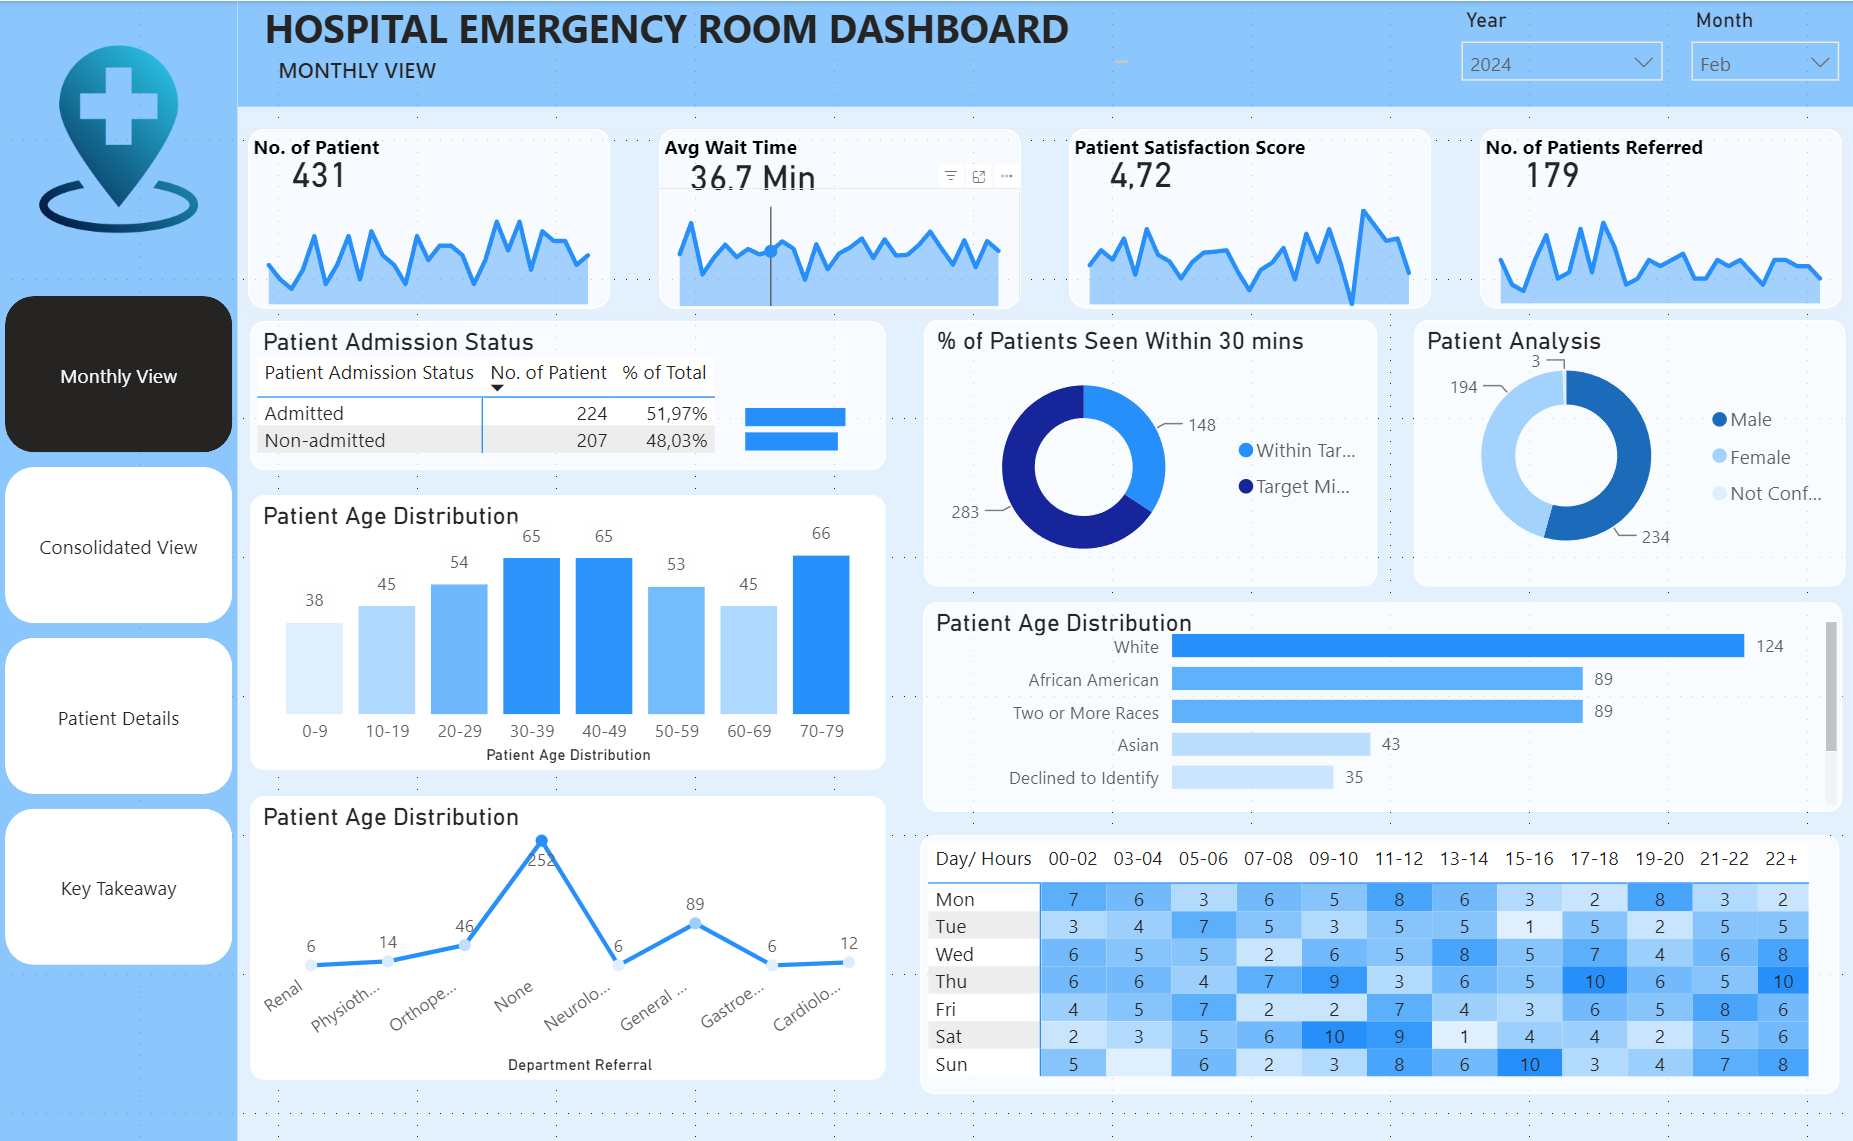

The dashboard page shown, as its layout file describes it:
{"tool":"powerbi","page":{"name":"Monthly View","canvas":[1280,790],"ordinal":0},"visuals":[{"type":"shape","box":[0,0,164.5,789.7],"z":0},{"type":"shape","box":[171.6,87.7,250.5,124.8],"z":0,"group":"g4"},{"type":"shape","box":[455.6,87.7,250.2,125.1],"z":0,"group":"g3"},{"type":"shape","box":[738.8,87.7,250.5,124.8],"z":0,"group":"g2"},{"type":"group","id":"g1","title":"No. of Patients Referred","box":[1021.8,87.7,251.1,127.1],"z":0,"group":"g12"},{"type":"shape","box":[1022.4,87.7,250.5,124.8],"z":0,"group":"g1"},{"type":"textbox","title":"% of Patients Seen Within 30 mins","box":[638.3,220.4,313.5,183.8],"z":0,"group":"g8"},{"type":"textbox","title":"Patient Analysis","box":[976.7,220.4,297.7,184.2],"z":0,"group":"g9"},{"type":"textbox","title":"Patient Admission Status","box":[172.6,220.7,439.2,102.8],"z":0,"group":"g5"},{"type":"textbox","title":"Patient Age Distribution","box":[172.6,341.3,439.1,190.3],"z":0,"group":"g6"},{"type":"textbox","title":"Patient Age Distribution","box":[637.8,414.9,635,145.3],"z":0,"group":"g10"},{"type":"textbox","title":"Patient Age Distribution","box":[172.6,548.7,439.1,196.2],"z":0,"group":"g7"},{"type":"textbox","title":"Patient Age Distribution","box":[635.3,576,635.3,178.6],"z":0,"group":"g11"},{"type":"shape","box":[164.2,0,1115.6,73.5],"z":1000},{"type":"group","id":"g2","title":"Patient Satisfaction Score","box":[737.8,87.7,251.5,127.7],"z":1000,"group":"g12"},{"type":"card","fields":{"Values":["Hospital ER_Data.No Of Patient"]},"box":[174.1,95,93.5,47.9],"z":1000,"group":"g4"},{"type":"card","fields":{"Values":["Hospital ER_Data.Avg Patient Satisfaction Score"]},"box":[741.3,95,93.5,47.9],"z":1000,"group":"g2"},{"type":"card","fields":{"Values":["Hospital ER_Data.No. of Patients Referred"]},"box":[1024.9,95,93.5,47.9],"z":1000,"group":"g1"},{"type":"card","fields":{"Values":["Hospital ER_Data.Average Wait Time"]},"box":[458.4,99.4,124.3,43.9],"z":1000,"group":"g3"},{"type":"donutChart","fields":{"Category":["Hospital ER_Data.Patient Gender"],"Y":["Hospital ER_Data.No Of Patient"]},"box":[976.8,224.1,297.3,180.3],"z":1000,"group":"g9"},{"type":"donutChart","title":"No. of Patient by Patient Age Distribution","fields":{"Y":["Hospital ER_Data.Timeliness","Hospital ER_Data.Without Timeliness"]},"box":[637.8,238.8,314.1,165.8],"z":1000,"group":"g8"},{"type":"barChart","fields":{"Category":["Hospital ER_Data.Patient Admission Status"],"Y":["Hospital ER_Data.No Of Patient"]},"box":[509.8,259.1,102.7,65.1],"z":1000,"group":"g5"},{"type":"lineClusteredColumnComboChart","title":"No. of Patient by Patient Age Distribution","fields":{"Category":["Hospital ER_Data.Patient Age Distribution"],"Y":["Hospital ER_Data.No Of Patient"]},"box":[172.6,341.3,439.9,190.3],"z":1000,"group":"g6"},{"type":"clusteredBarChart","title":"No. of Patient by Patient Age Distribution","fields":{"Category":["Hospital ER_Data.Patient Race"],"Y":["Hospital ER_Data.No Of Patient"]},"box":[637.8,414.9,636.2,145.3],"z":1000,"group":"g10"},{"type":"lineChart","title":"No. of Patient by Patient Age Distribution","fields":{"Category":["Hospital ER_Data.Department Referral"],"Y":["Hospital ER_Data.No Of Patient"]},"box":[172.6,548.7,439.9,196.2],"z":1000,"group":"g7"},{"type":"pivotTable","fields":{"Rows":["Date Table.Day"],"Values":["Hospital ER_Data.No Of Patient"],"Columns":["Hospital ER_Data.Patient volumne by day and hour"]},"box":[635.9,576.8,635.3,177],"z":1000,"group":"g11"},{"type":"textbox","title":"HOSPITAL EMERGENCY ROOM DASHBOARD","box":[177.4,0,605.8,48.3],"z":2000},{"type":"group","id":"g3","title":"Avg Wait Time","box":[454.8,87.7,251,127.7],"z":2000,"group":"g12"},{"type":"areaChart","fields":{"Category":["Date Table.Date.Variation.Date Hierarchy.Month"],"Y":["Hospital ER_Data.No Of Patient"]},"box":[170.8,128.8,250.5,86.4],"z":2000,"group":"g4"},{"type":"areaChart","fields":{"Category":["Date Table.Date.Variation.Date Hierarchy.Month"],"Y":["Avg(Hospital ER_Data.Patient Waittime)"]},"box":[454.8,128.9,250.2,86.5],"z":2000,"group":"g3"},{"type":"areaChart","fields":{"Category":["Date Table.Date.Variation.Date Hierarchy.Month"],"Y":["Hospital ER_Data.Avg Patient Satisfaction Score"]},"box":[737.8,130.4,250.5,85],"z":2000,"group":"g2"},{"type":"areaChart","fields":{"Category":["Date Table.Date.Variation.Date Hierarchy.Month"],"Y":["Hospital ER_Data.No. of Patients Referred"]},"box":[1021.8,130.4,250.5,84.3],"z":2000,"group":"g1"},{"type":"pivotTable","fields":{"Rows":["Hospital ER_Data.Patient Admission Status"],"Values":["Hospital ER_Data.No Of Patient","Divide(Hospital ER_Data.No Of Patient, ScopedEval(Hospital ER_Data.No Of Patient, []))"]},"box":[172.7,240.6,335.9,83.2],"z":2000,"group":"g5"},{"type":"textbox","title":"MONTHLY VIEW","box":[187.4,37.1,129.1,26.5],"z":3000},{"type":"group","id":"g4","title":"No. of Patients ","box":[170.8,87.7,251.3,127.5],"z":3000,"group":"g12"},{"type":"slicer","fields":{"Values":["Date Table.Year"]},"box":[999.2,0,158.6,73.5],"z":4000},{"type":"slicer","fields":{"Values":["Date Table.Month"]},"box":[1158,0,121.7,72.6],"z":5000},{"type":"group","id":"g5","title":"Patient Admission Status","box":[172.6,220.7,439.9,103.5],"z":6000},{"type":"group","id":"g6","title":"Patient Age Distribution","box":[172.6,341.3,439.9,190.3],"z":7000},{"type":"group","id":"g7","title":"Patient Age Distribution","box":[172.6,548.7,439.9,196.2],"z":8000},{"type":"group","id":"g8","title":"Timeliness","box":[637.8,220.4,313.9,184.5],"z":9000},{"type":"group","id":"g9","title":"Patient Age Distribution","box":[976.7,220.4,297.2,184.5],"z":10000},{"type":"group","id":"g10","title":"Racial Demographics","box":[637.8,414.9,636.1,145.3],"z":11000},{"type":"group","id":"g11","title":"Time Analysis","box":[635.3,576,635.9,178.6],"z":12000},{"type":"group","id":"g12","title":"Matrix","box":[170.8,87.7,1102.1,127.7],"z":13000},{"type":"pageNavigator","box":[3.5,203.7,157.5,464.8],"z":14000},{"type":"image","box":[0,30.4,164.4,129.8],"z":15000}]}

Visuals, with their boxes in screenshot pixels (x1, y1, x2, y2), scaled from the page's 1280x790 canvas onto the 1853x1141 screenshot:
shape: x1=0, y1=0, x2=238, y2=1140
shape: x1=248, y1=127, x2=611, y2=307
shape: x1=660, y1=127, x2=1022, y2=307
shape: x1=1070, y1=127, x2=1432, y2=307
"No. of Patients Referred" group: x1=1479, y1=127, x2=1843, y2=310
shape: x1=1480, y1=127, x2=1843, y2=307
"% of Patients Seen Within 30 mins" textbox: x1=924, y1=318, x2=1378, y2=584
"Patient Analysis" textbox: x1=1414, y1=318, x2=1845, y2=584
"Patient Admission Status" textbox: x1=250, y1=319, x2=886, y2=467
"Patient Age Distribution" textbox: x1=250, y1=493, x2=886, y2=768
"Patient Age Distribution" textbox: x1=923, y1=599, x2=1843, y2=809
"Patient Age Distribution" textbox: x1=250, y1=792, x2=886, y2=1076
"Patient Age Distribution" textbox: x1=920, y1=832, x2=1839, y2=1090
shape: x1=238, y1=0, x2=1852, y2=106
"Patient Satisfaction Score" group: x1=1068, y1=127, x2=1432, y2=311
card - Hospital ER_Data.No Of Patient: x1=252, y1=137, x2=387, y2=206
card - Hospital ER_Data.Avg Patient Satisfaction Score: x1=1073, y1=137, x2=1209, y2=206
card - Hospital ER_Data.No. of Patients Referred: x1=1484, y1=137, x2=1619, y2=206
card - Hospital ER_Data.Average Wait Time: x1=664, y1=144, x2=844, y2=207
donutChart - Hospital ER_Data.Patient Gender x Hospital ER_Data.No Of Patient: x1=1414, y1=324, x2=1844, y2=584
"No. of Patient by Patient Age Distribution" donutChart: x1=923, y1=345, x2=1378, y2=584
barChart - Hospital ER_Data.Patient Admission Status x Hospital ER_Data.No Of Patient: x1=738, y1=374, x2=887, y2=468
"No. of Patient by Patient Age Distribution" lineClusteredColumnComboChart: x1=250, y1=493, x2=887, y2=768
"No. of Patient by Patient Age Distribution" clusteredBarChart: x1=923, y1=599, x2=1844, y2=809
"No. of Patient by Patient Age Distribution" lineChart: x1=250, y1=792, x2=887, y2=1076
pivotTable - Date Table.Day x Hospital ER_Data.No Of Patient: x1=921, y1=833, x2=1840, y2=1089
"HOSPITAL EMERGENCY ROOM DASHBOARD" textbox: x1=257, y1=0, x2=1134, y2=70
"Avg Wait Time" group: x1=658, y1=127, x2=1022, y2=311
areaChart - Date Table.Date.Variation.Date Hierarchy.Month x Hospital ER_Data.No Of Patient: x1=247, y1=186, x2=610, y2=311
areaChart - Date Table.Date.Variation.Date Hierarchy.Month x Avg(Hospital ER_Data.Patient Waittime): x1=658, y1=186, x2=1021, y2=311
areaChart - Date Table.Date.Variation.Date Hierarchy.Month x Hospital ER_Data.Avg Patient Satisfaction Score: x1=1068, y1=188, x2=1431, y2=311
areaChart - Date Table.Date.Variation.Date Hierarchy.Month x Hospital ER_Data.No. of Patients Referred: x1=1479, y1=188, x2=1842, y2=310
pivotTable - Hospital ER_Data.Patient Admission Status x Hospital ER_Data.No Of Patient: x1=250, y1=347, x2=736, y2=468
"MONTHLY VIEW" textbox: x1=271, y1=54, x2=458, y2=92
"No. of Patients " group: x1=247, y1=127, x2=611, y2=311
slicer - Date Table.Year: x1=1446, y1=0, x2=1676, y2=106
slicer - Date Table.Month: x1=1676, y1=0, x2=1852, y2=105
"Patient Admission Status" group: x1=250, y1=319, x2=887, y2=468
"Patient Age Distribution" group: x1=250, y1=493, x2=887, y2=768
"Patient Age Distribution" group: x1=250, y1=792, x2=887, y2=1076
"Timeliness" group: x1=923, y1=318, x2=1378, y2=585
"Patient Age Distribution" group: x1=1414, y1=318, x2=1844, y2=585
"Racial Demographics" group: x1=923, y1=599, x2=1844, y2=809
"Time Analysis" group: x1=920, y1=832, x2=1840, y2=1090
"Matrix" group: x1=247, y1=127, x2=1843, y2=311
pageNavigator: x1=5, y1=294, x2=233, y2=966
image: x1=0, y1=44, x2=238, y2=231
